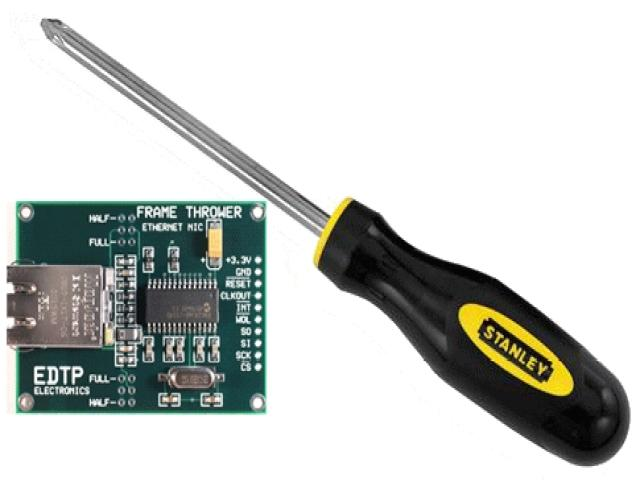Screwdriver: (41, 21, 629, 464)
